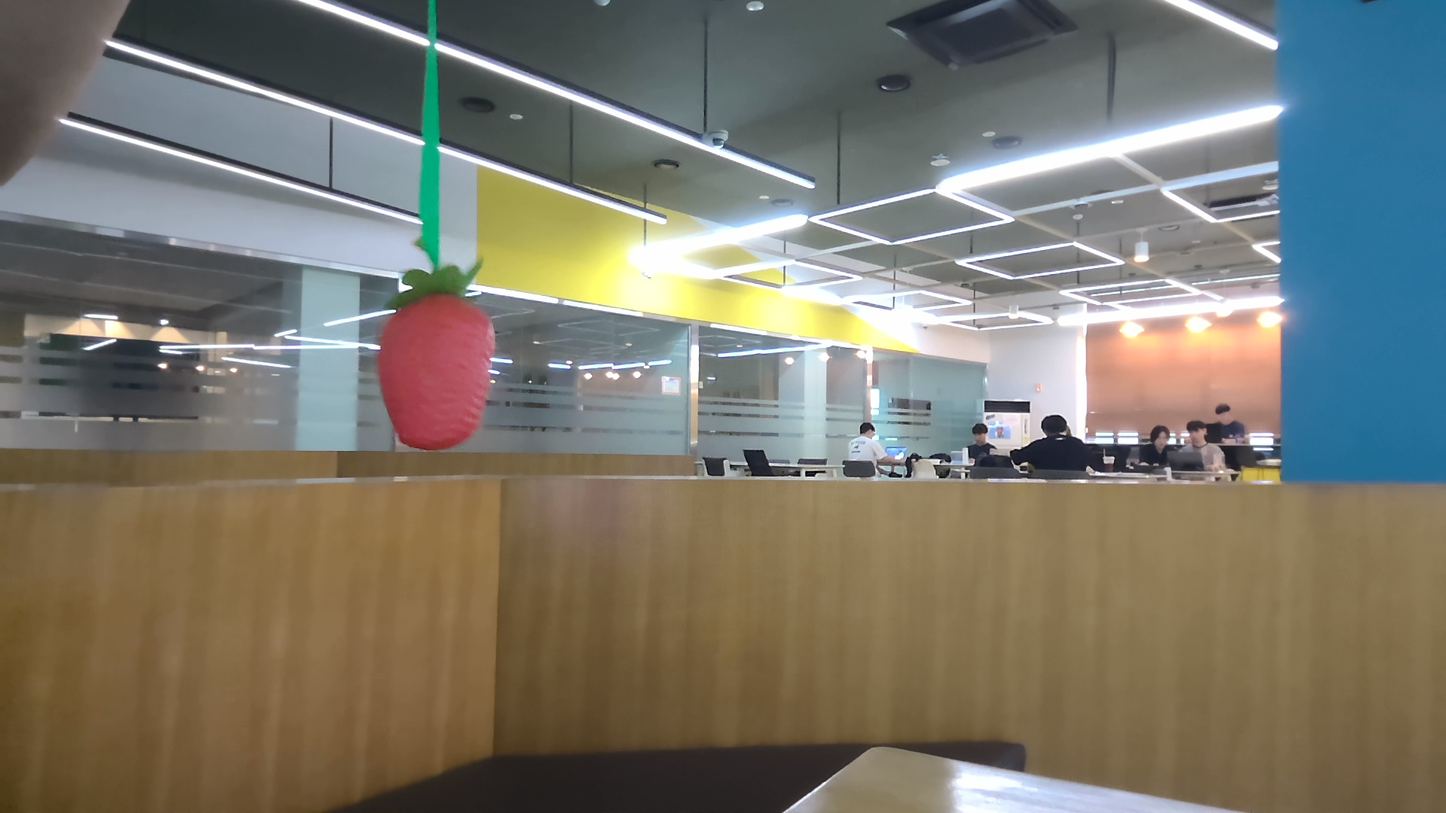strawberry: (362, 279, 509, 454)
